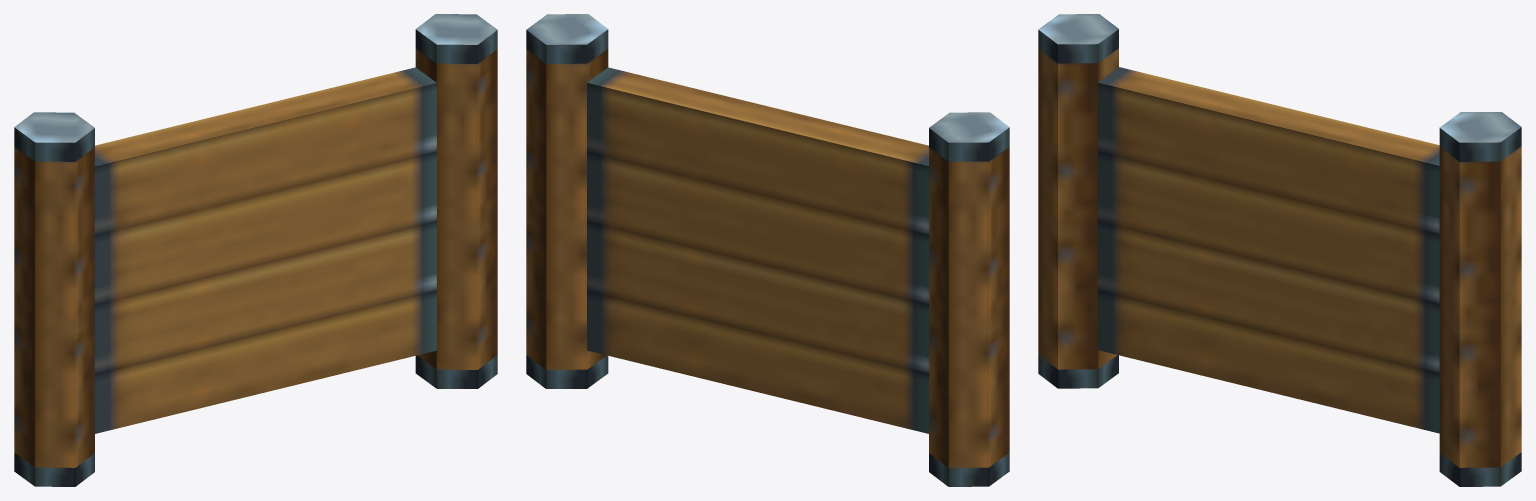
The model's file is Poly_Direction_Board_01.obj.
The picture shows the model from 3 angles, left to right: view 1: azimuth 30°, elevation 25°; view 2: azimuth 150°, elevation 25°; view 3: azimuth 330°, elevation 25°; orthographic projection.
Visible parts, largest first — view 1: Cylinder.002, Cylinder, Cylinder.001_Cylinder.004; view 2: Cylinder.002, Cylinder, Cylinder.001_Cylinder.004; view 3: Cylinder.002, Cylinder.001_Cylinder.004, Cylinder.
Part boxes in pixels (box(x1,y1,x2,y2)): Cylinder.002: box(94, 67, 436, 433); Cylinder: box(14, 112, 94, 486); Cylinder.001_Cylinder.004: box(415, 14, 497, 388); Cylinder.002: box(587, 67, 929, 433); Cylinder: box(929, 112, 1009, 486); Cylinder.001_Cylinder.004: box(526, 14, 608, 388); Cylinder.002: box(1097, 67, 1439, 433); Cylinder.001_Cylinder.004: box(1439, 112, 1521, 486); Cylinder: box(1038, 14, 1118, 388).
Bounding box in the file's own units: 1.27 × 0.9 × 0.2003.
Materials: 1 (1 with a texture image).
